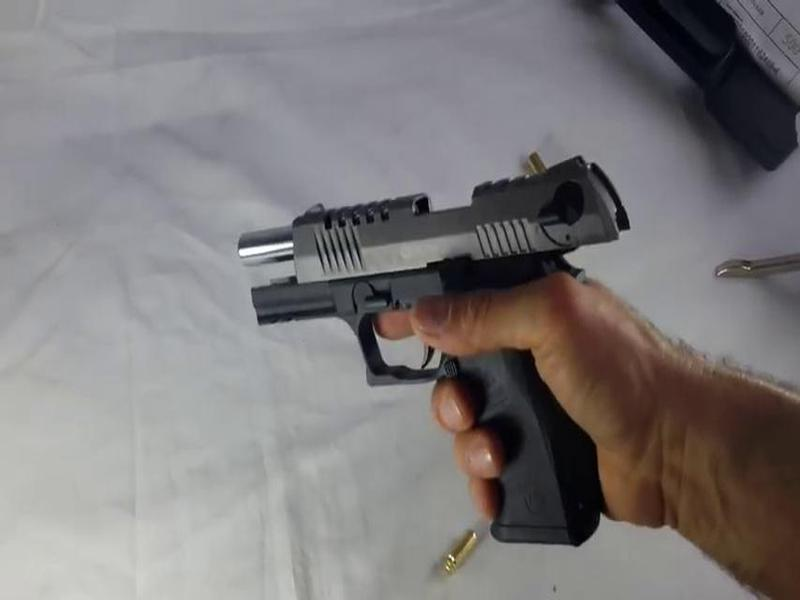Pistola: (233, 130, 645, 551)
